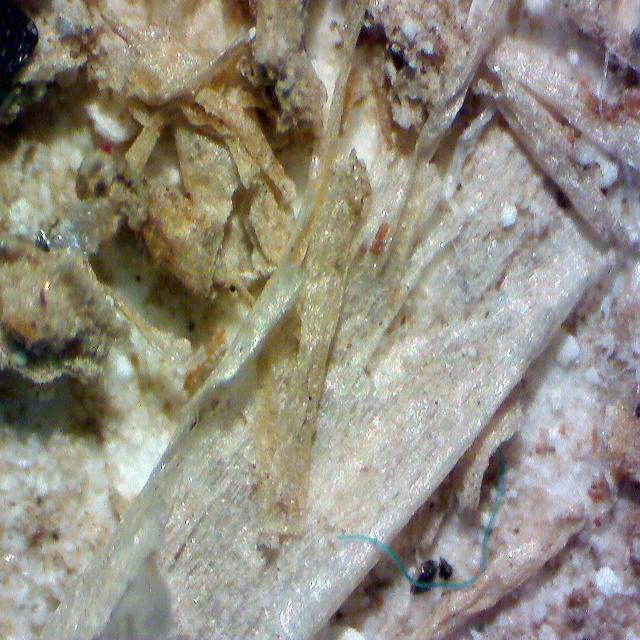microplastic: (334, 437, 510, 588)
